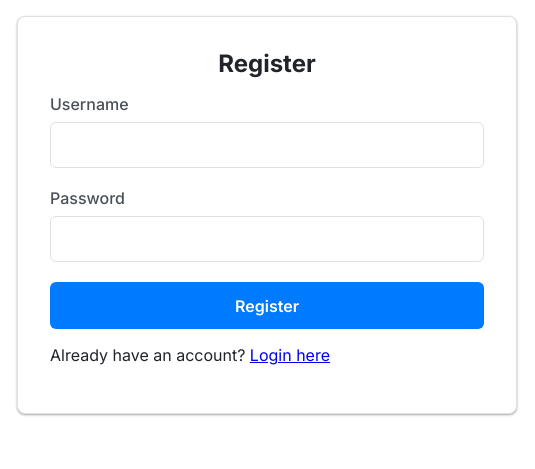
Test: Register Page › displays error if username is too short
In the field labelled "Username": (267, 145) [50, 122, 484, 168], type "ab"
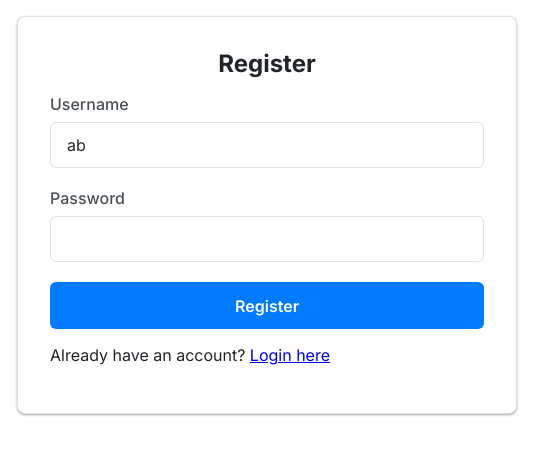
In the password field labelled "Password": (267, 239) [50, 216, 484, 262], type "password123"
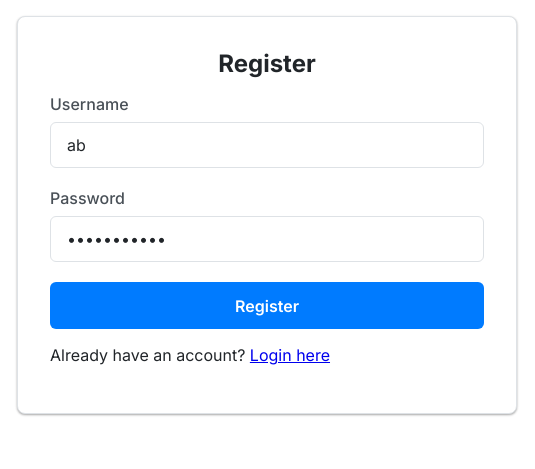
Click the button "Register": (267, 306) [50, 282, 484, 329]
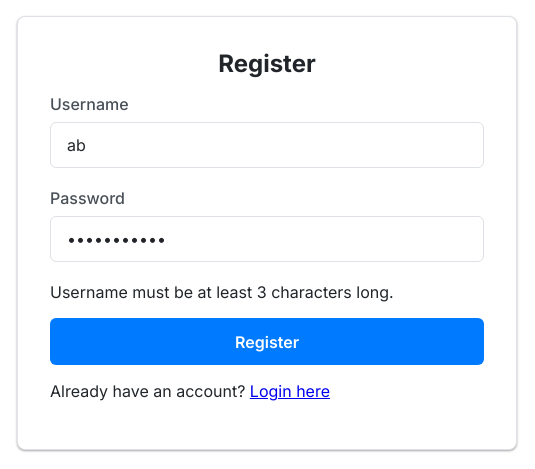
Now the text "Username must be at least 3 characters long." is shown, box [50, 282, 394, 302]
